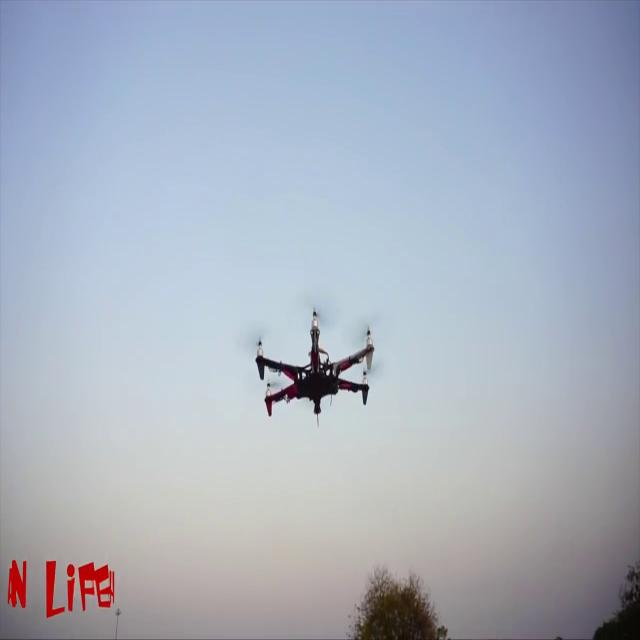drone: (241, 301, 398, 432)
